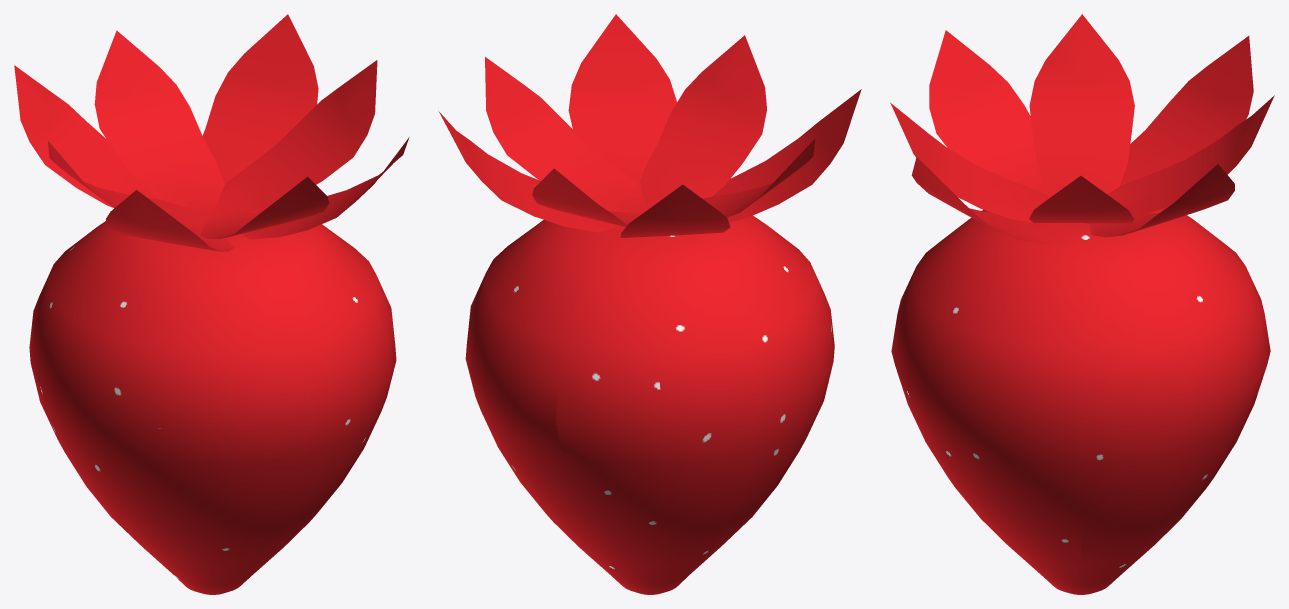
Rendered from strawberry.fbx.
3 views of the same model, side by side, from view 1: azimuth 30°, elevation 25°; view 2: azimuth 150°, elevation 25°; view 3: azimuth 270°, elevation 25° (orthographic).
Visible parts, largest first — view 1: Grid; view 2: Grid; view 3: Grid.
Part boxes in pixels (x1,y1,x2,y2): Grid: (14, 14, 409, 594); Grid: (438, 14, 861, 594); Grid: (890, 14, 1274, 594).
Bounding box in the file's own units: 174 × 249 × 175.
